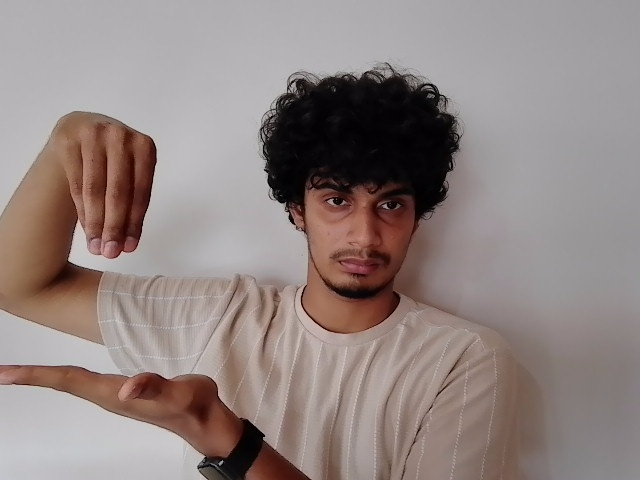learn: (1, 113, 229, 423)
